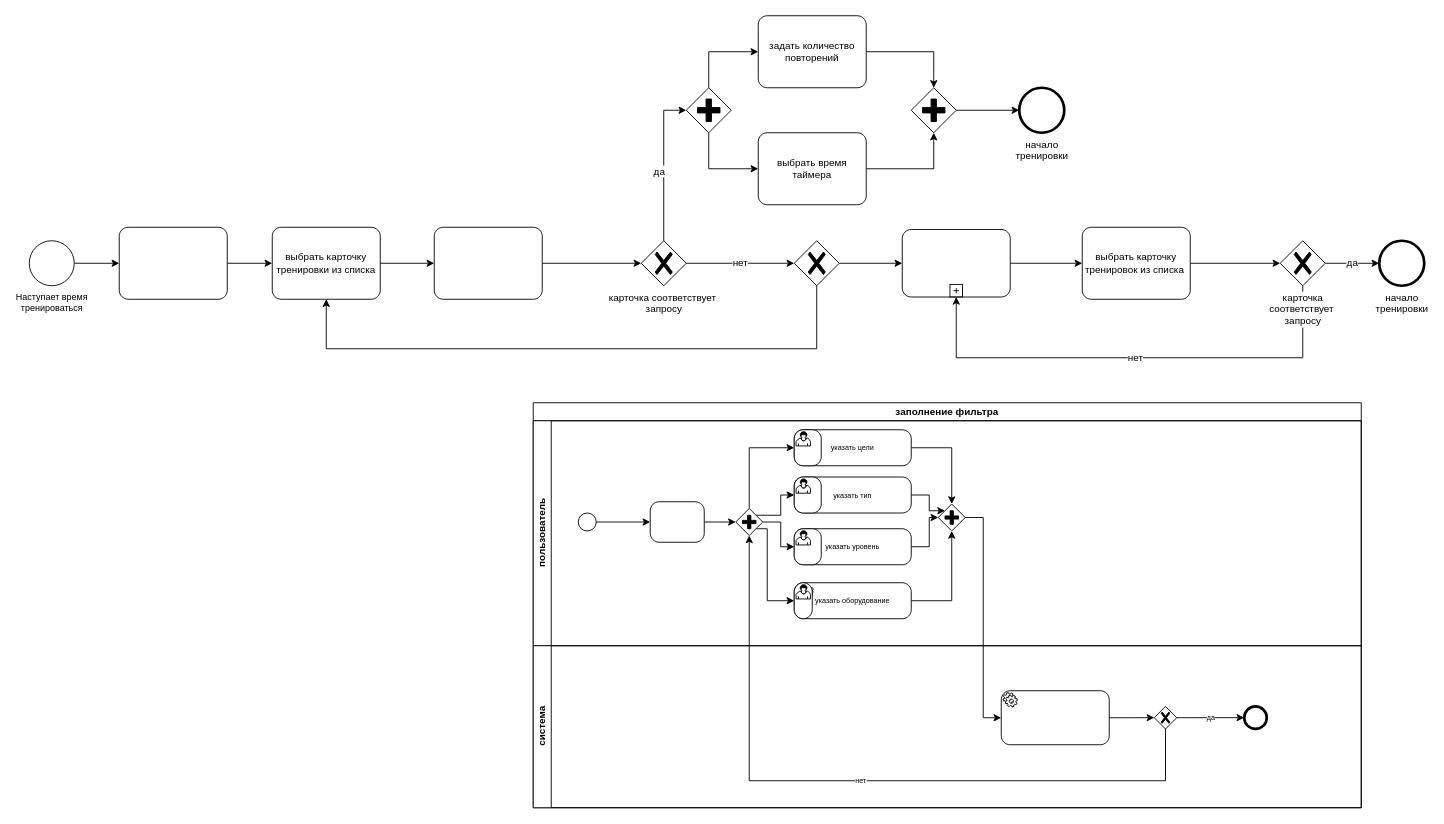
Image size: 1444x824. Some labels were removed from this diagram. Here are the shapes that lost their labels. From the top down, the centre of each, then its label:
At [172,262]: "Зайти на сайт".
At [487,262]: "осмотреть карточку".
At [955,263]: "заполненить фильтр".
At [586,521]: "каточка тренировки не подошлв".
At [676,521]: "включить фильтра".
At [1054,717]: "сопоставление выбраных пунктов".
At [1165,717]: "карточки с указанными пунктами существуют?".
At [1255,717]: "выбрать карточку".
